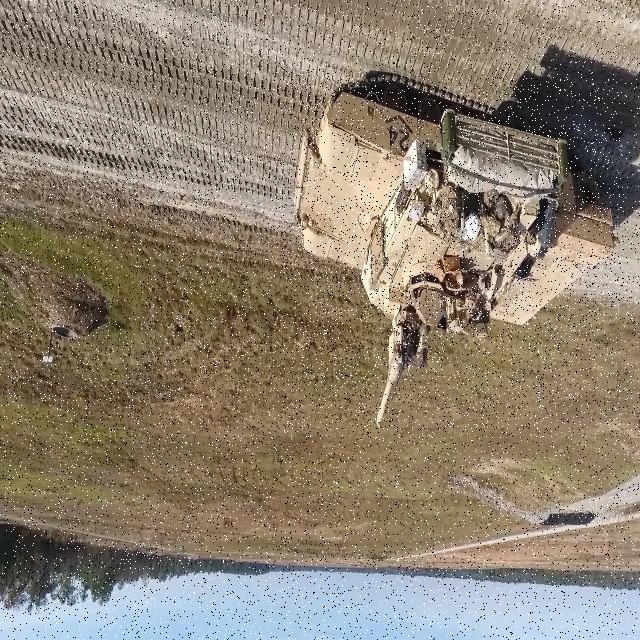MIL_MBT: (291, 78, 620, 430)
